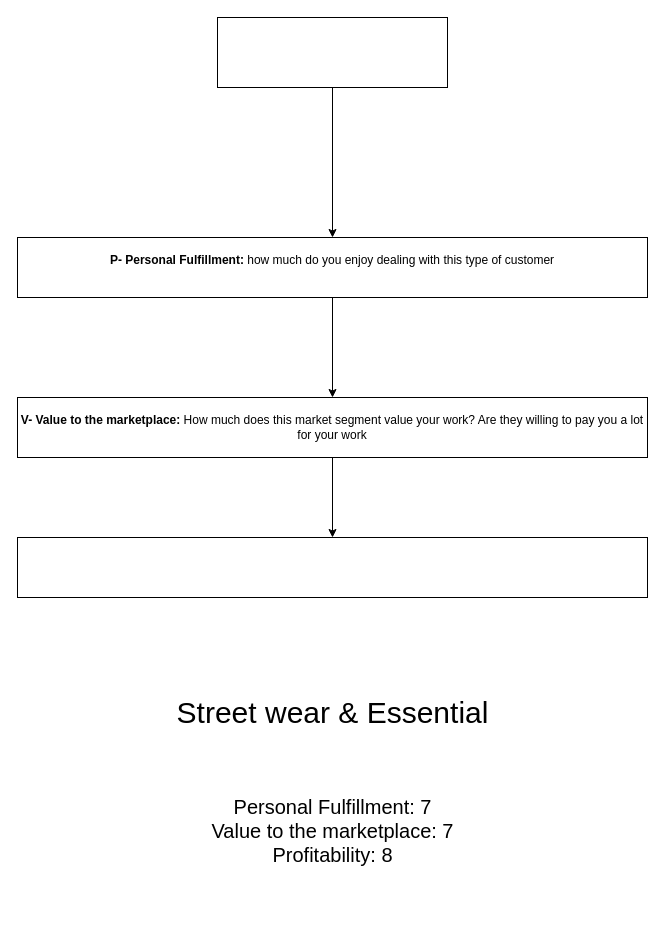
Image size: 665x930. Some labels were removed from this diagram. The shapes that lost their labels are listed below. From the top down, each one's centre as x and y in pixels, then its label:
(x=332, y=52): PVP
(x=332, y=567): P- Profitability: how profitable is the work you do for this market segment
